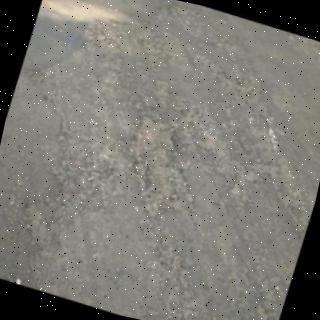pothole: (134, 119, 194, 214)
